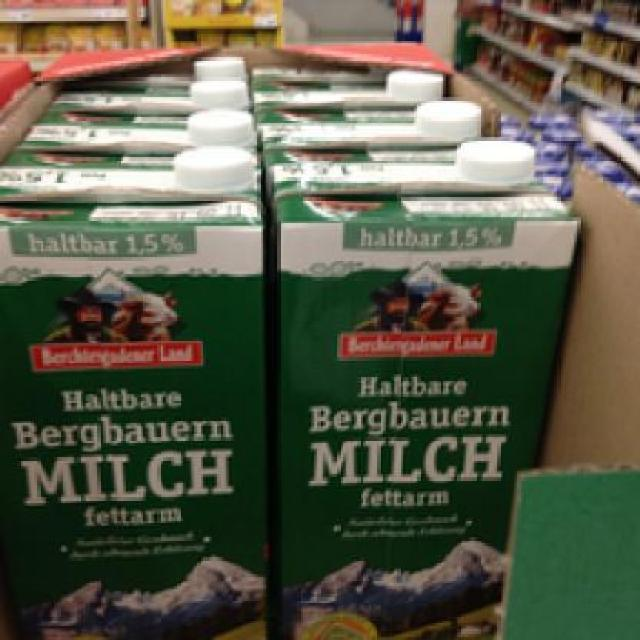Milk: (271, 140, 584, 637), (0, 152, 263, 638)
